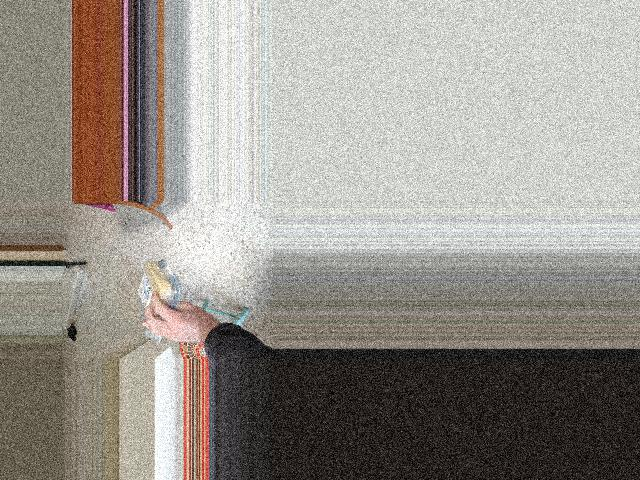cheese: (138, 259, 174, 333)
